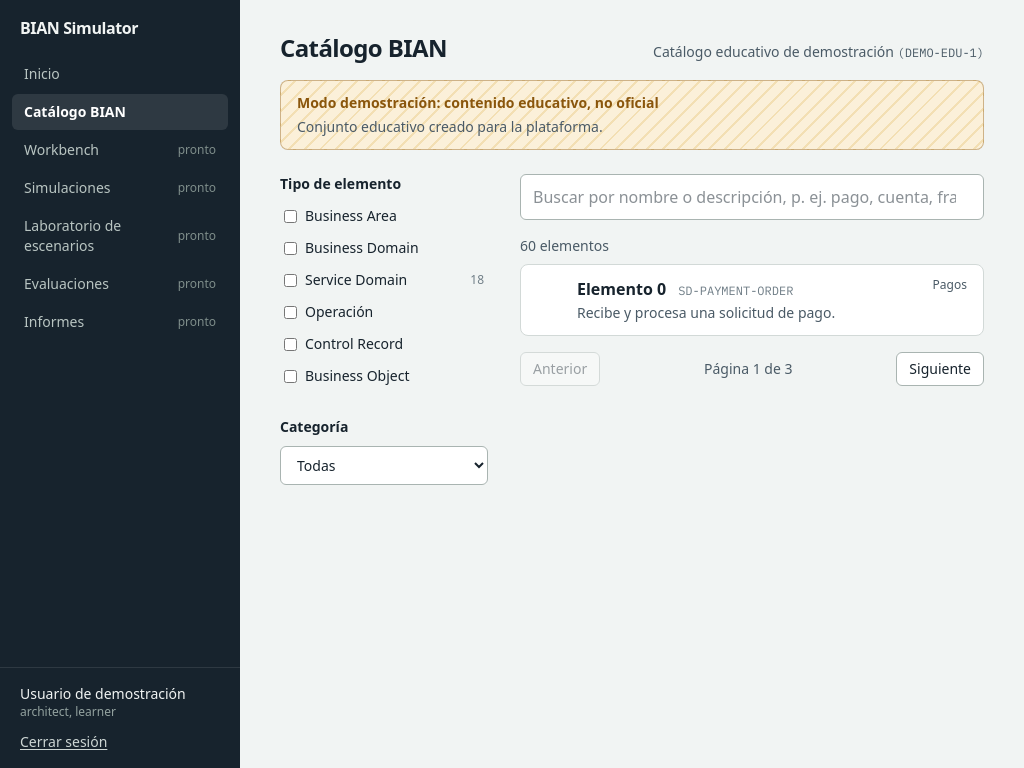
Scenario: CatalogExplorerPage › pagina los resultados
Click the button "Siguiente" at (940, 369), box [896,352,984,386]
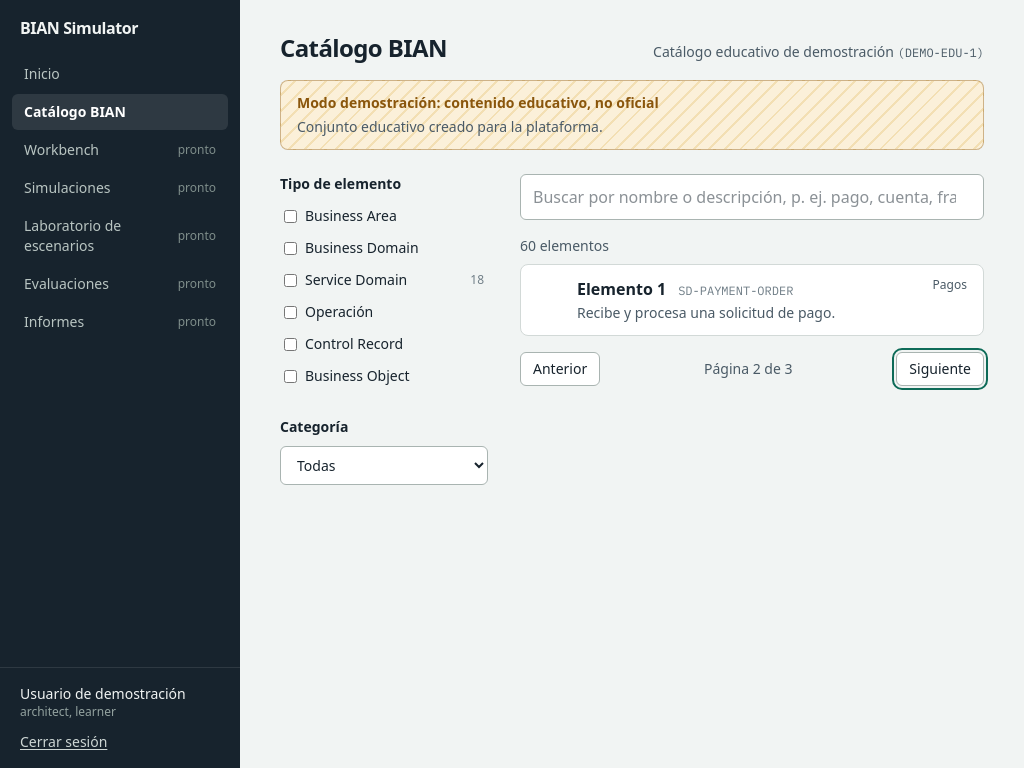
expect the text "Página 2 de 3" is shown: met, box [704,359,792,379]
